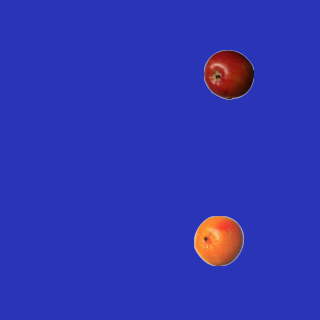Apple Braeburn: (203, 49, 253, 99)
Grapefruit Pink: (193, 215, 243, 265)
